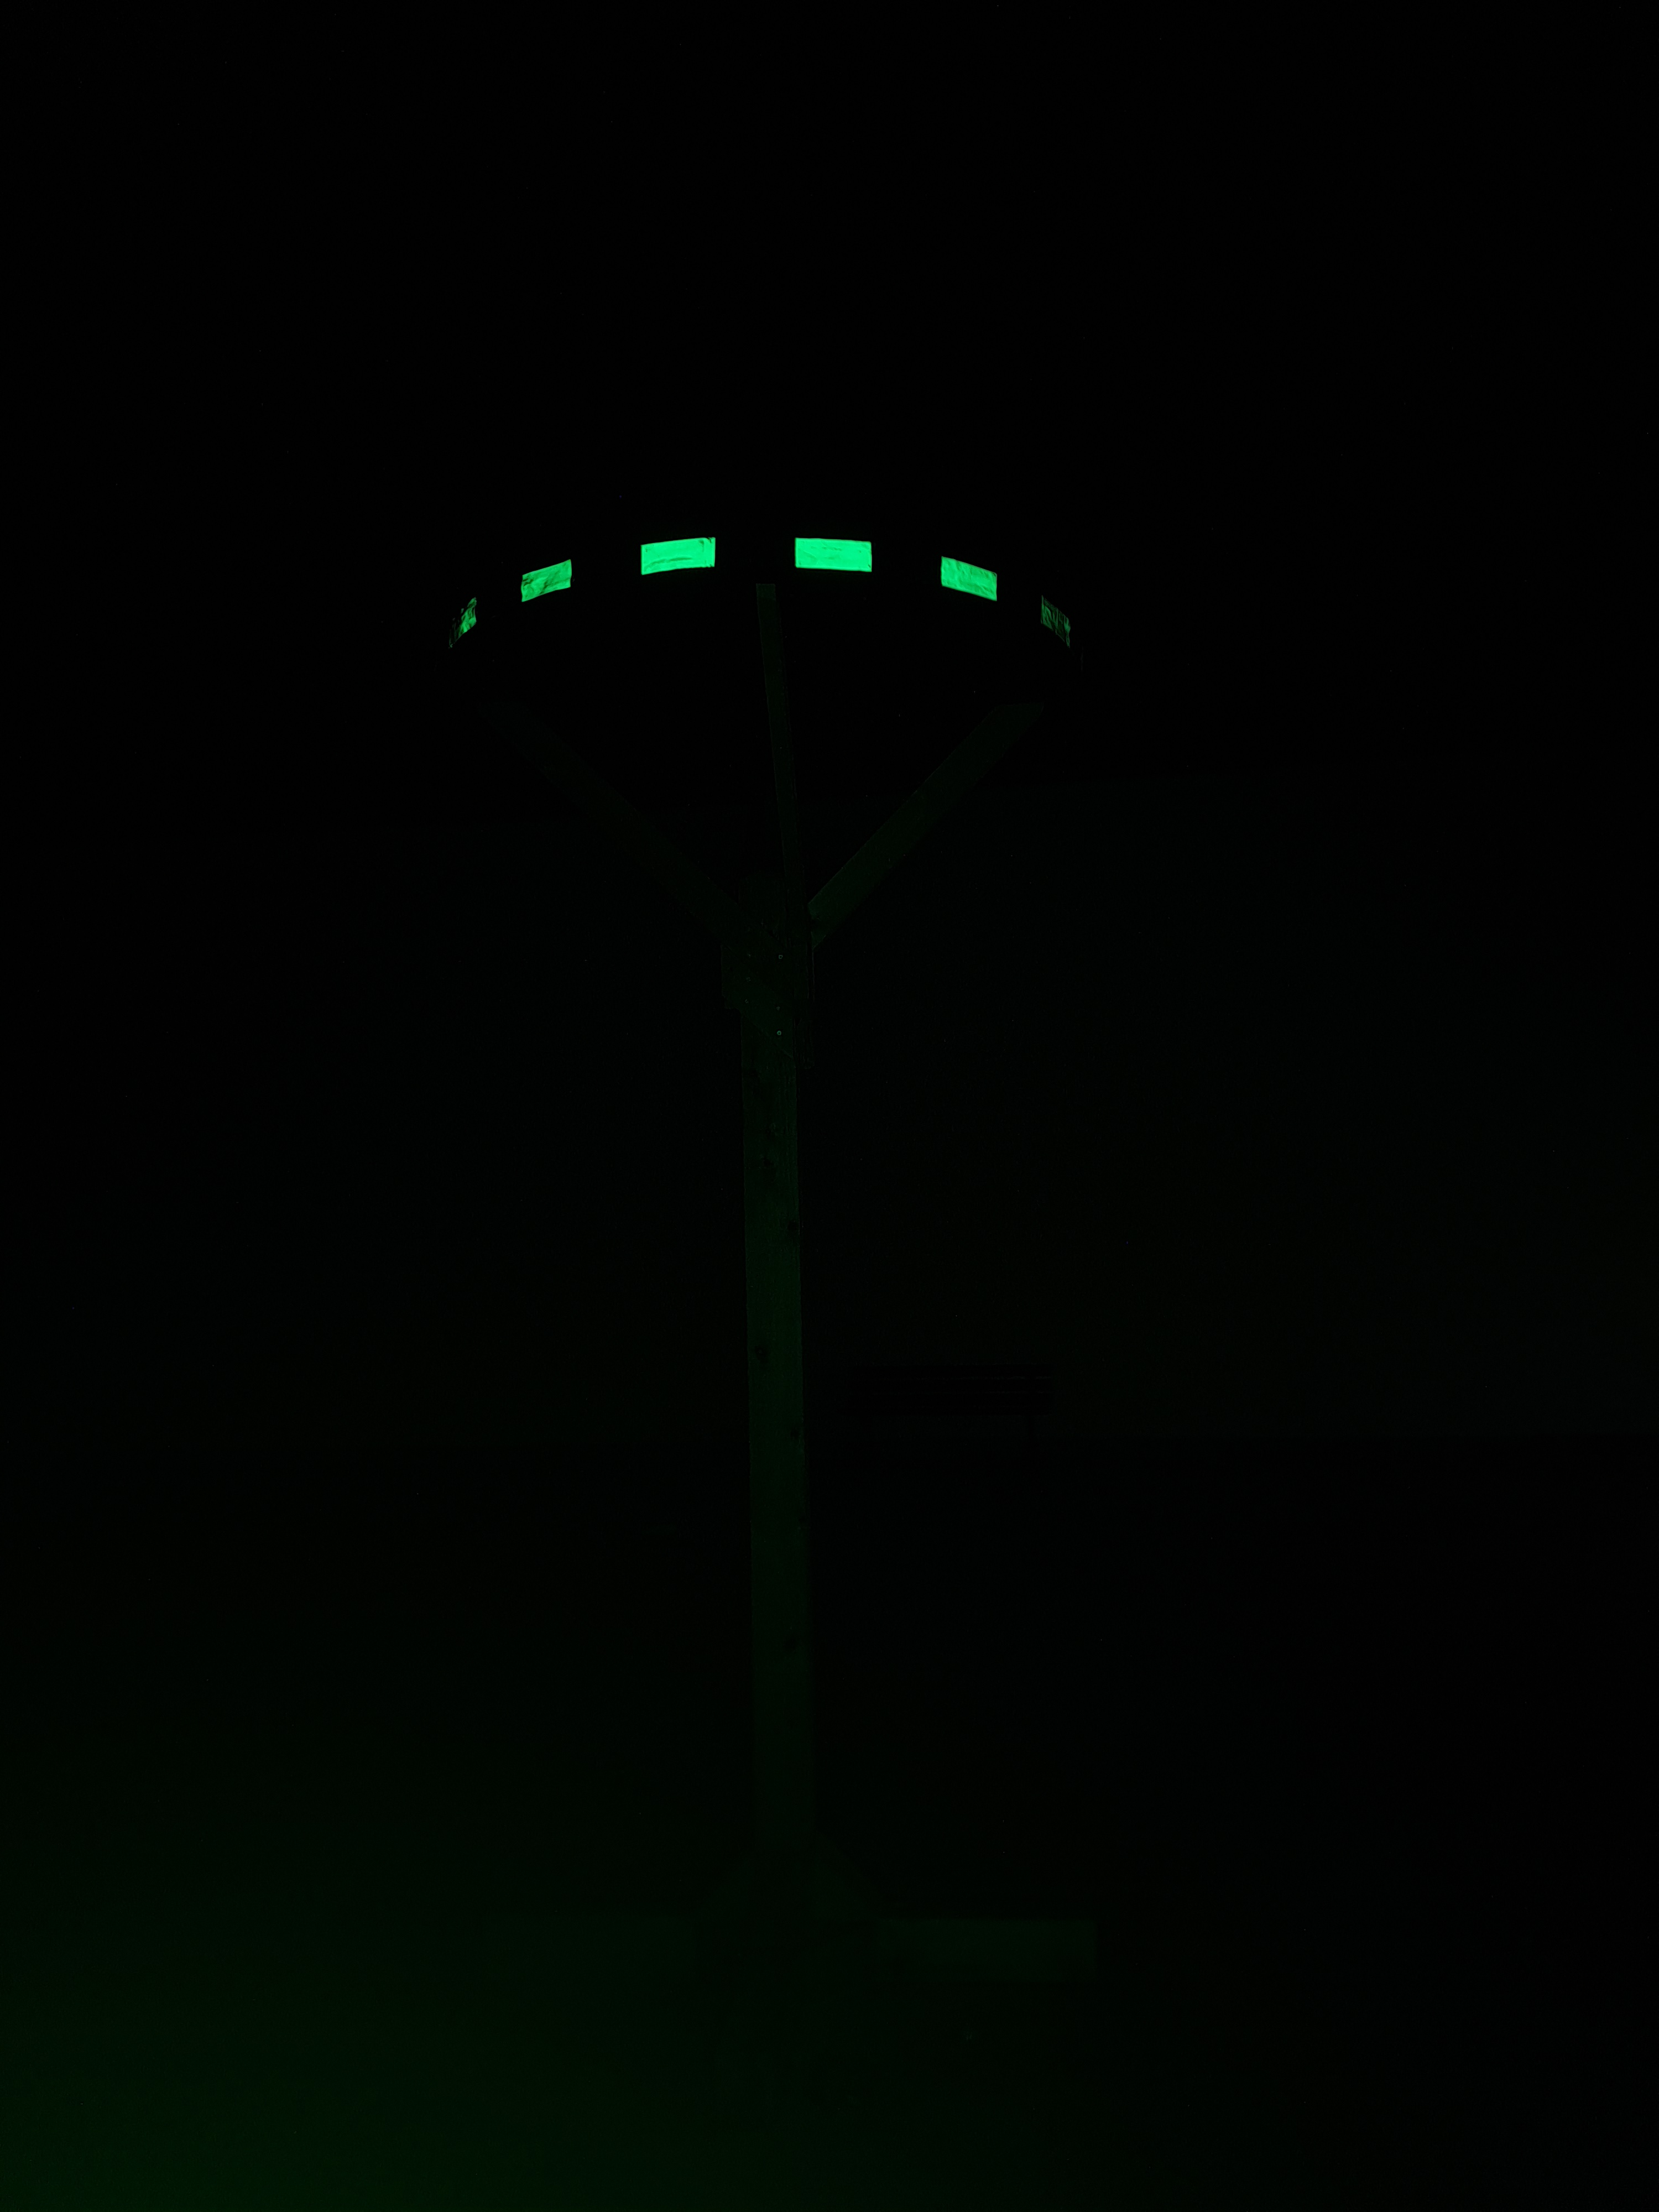hoop: (455, 535, 1073, 651)
